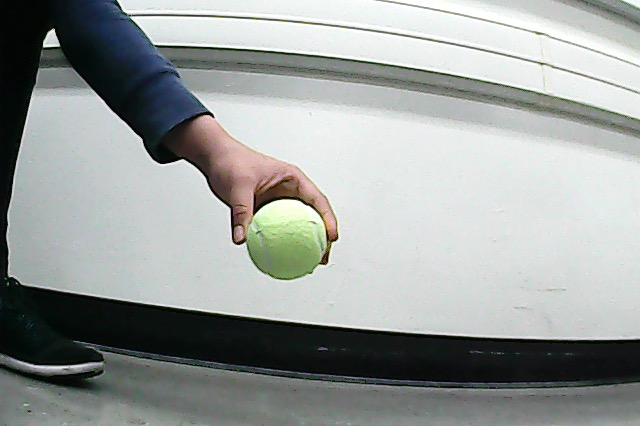ball: (242, 197, 330, 283)
